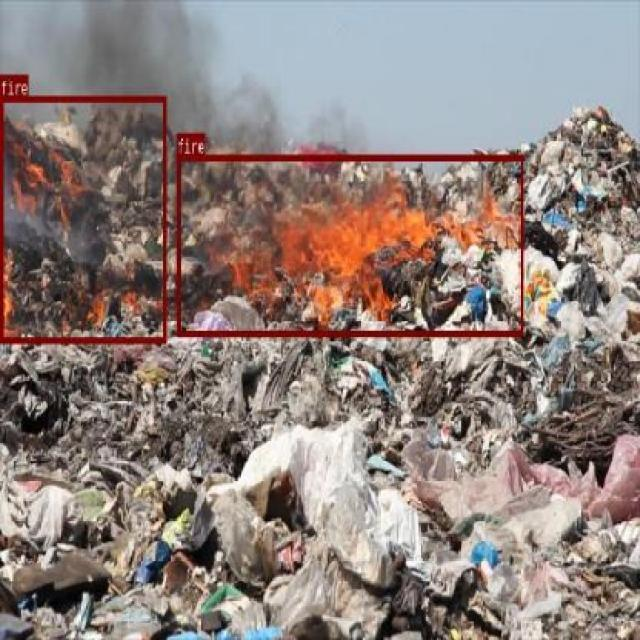CIV_Plane: (176, 154, 522, 336)
Fire: (176, 154, 522, 336), (82, 218, 165, 248)
